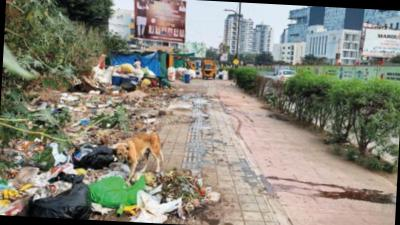trash: (28, 181, 91, 219)
